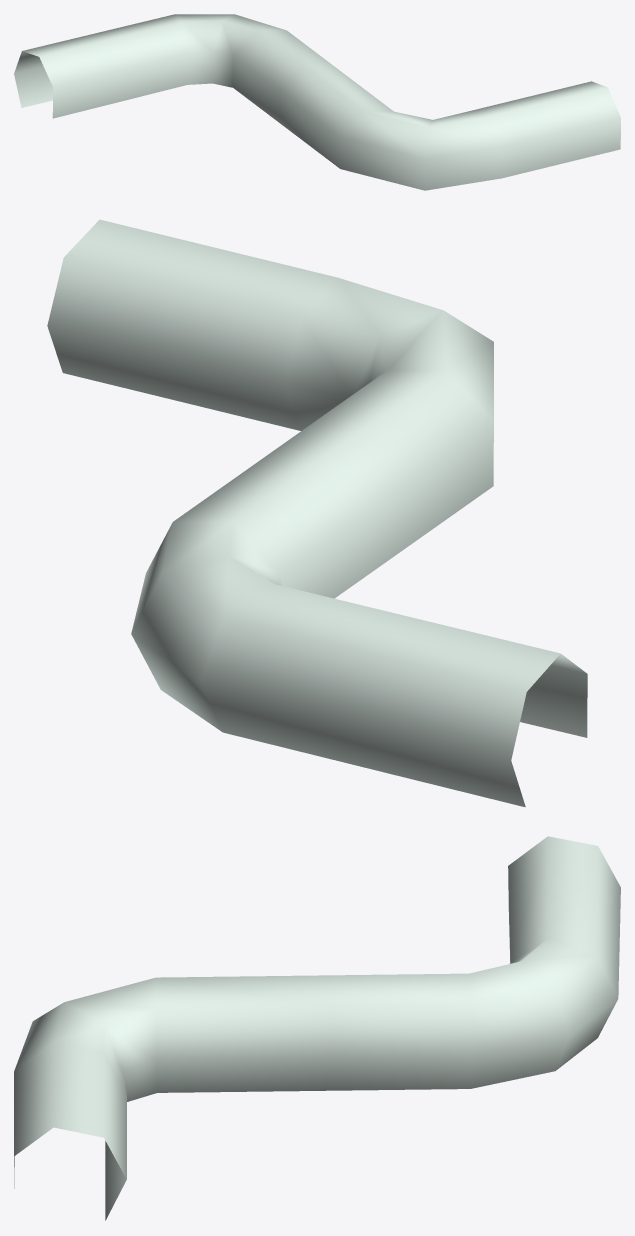
Rendered from Norris_Maze_White_Wire_S.fbx.
The picture shows the model from 3 angles, top to bottom: view 1: azimuth 30°, elevation 25°; view 2: azimuth 150°, elevation 25°; view 3: azimuth 270°, elevation 25°; orthographic projection. The views are drawn at different scales.
Parts seen in each view (by area): view 1: WireLong4; view 2: WireLong4; view 3: WireLong4.
Boxes of the visible parts, left/top/right/bottom form: WireLong4: left=14, top=14, right=620, bottom=190; WireLong4: left=47, top=219, right=587, bottom=807; WireLong4: left=14, top=836, right=620, bottom=1220.
Bounding box in the file's own units: 6.47 × 1.05 × 5.8.
